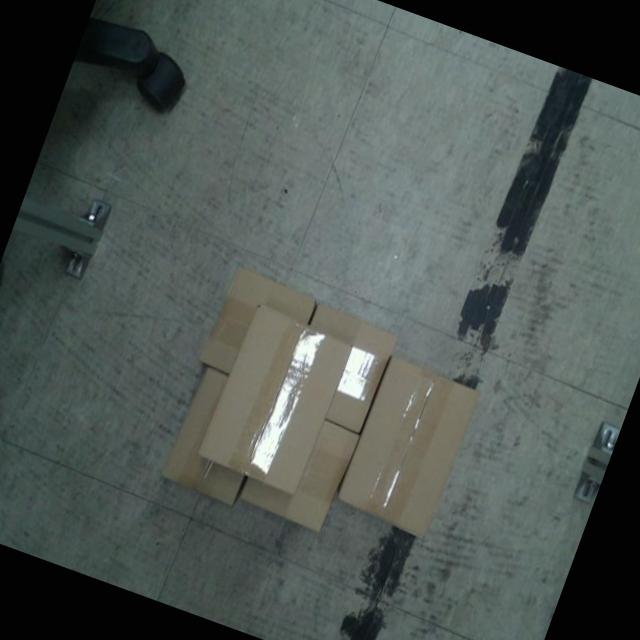box: (197, 300, 356, 497), (332, 350, 484, 542)
